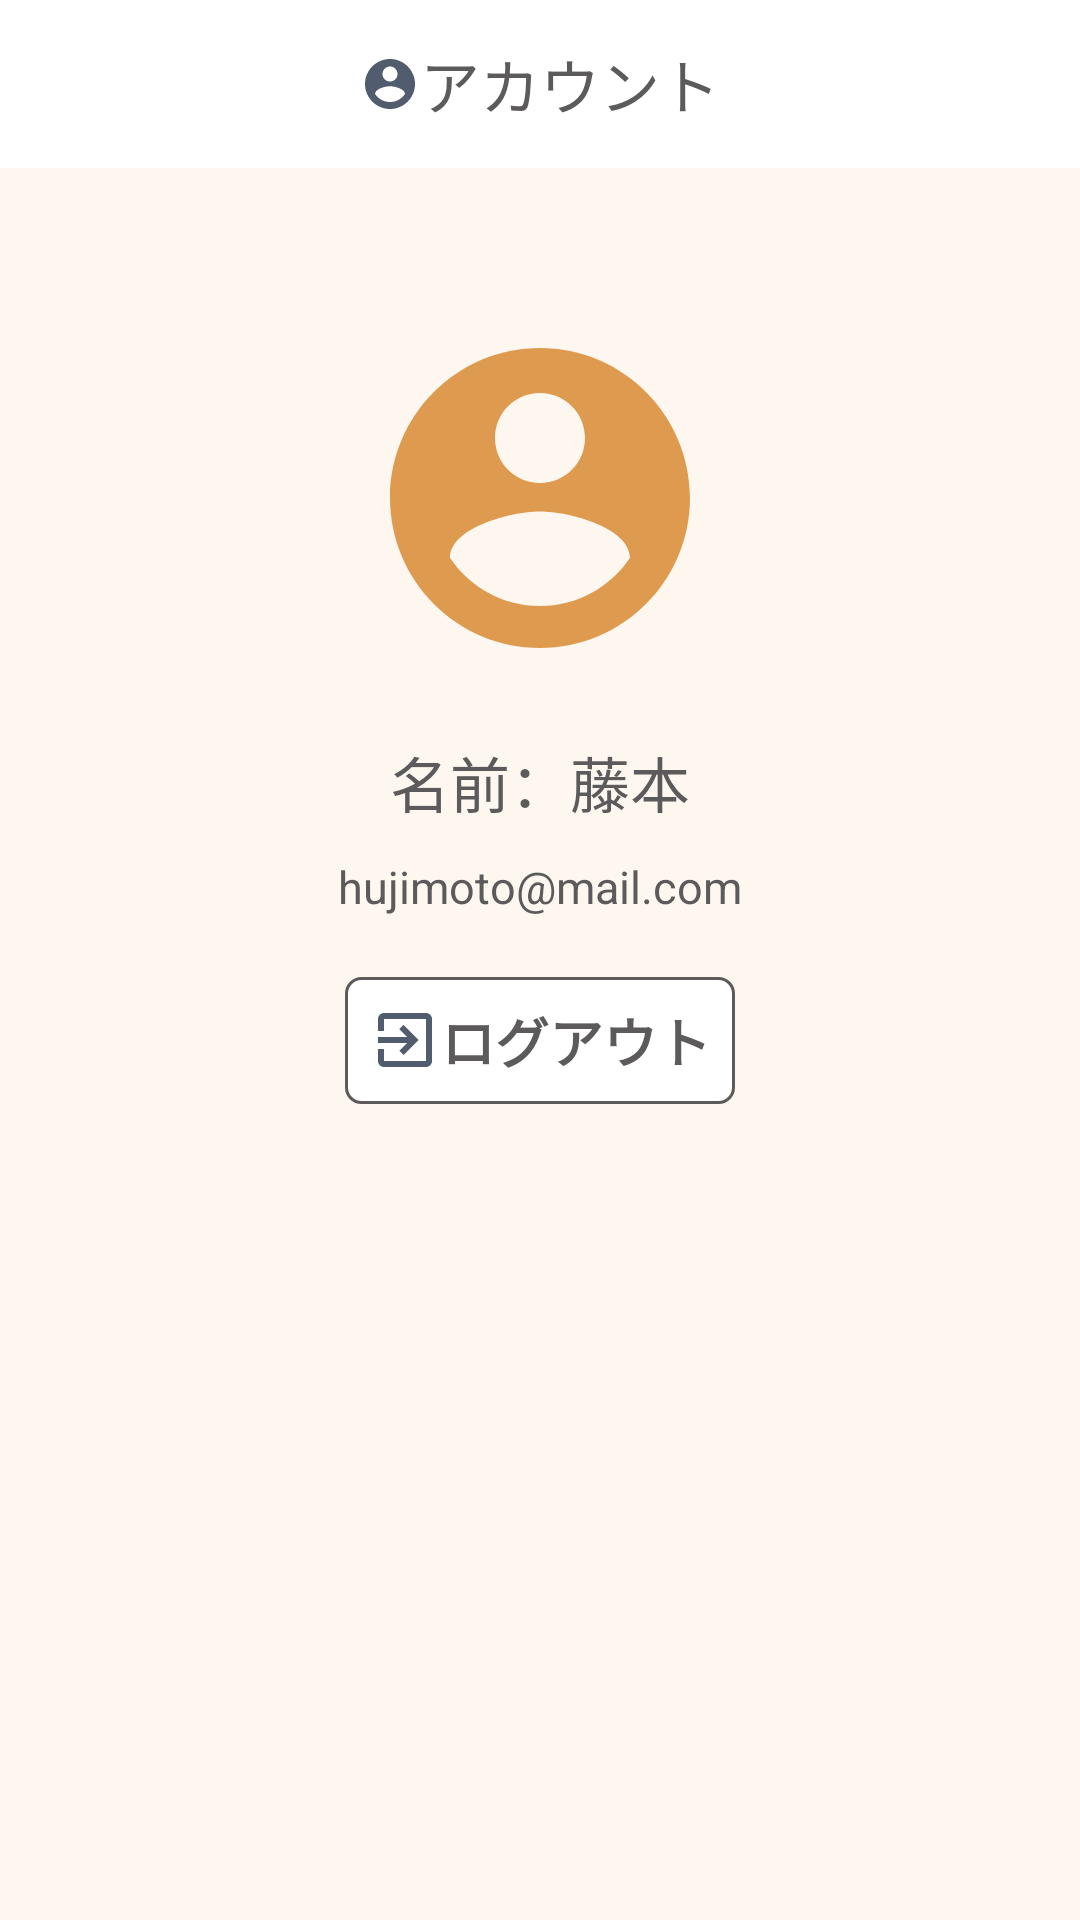

Point at icon controls on the screen. Image size 1080 x 1920, points as (x,y).
ユーザーアイコン: (540,498)
